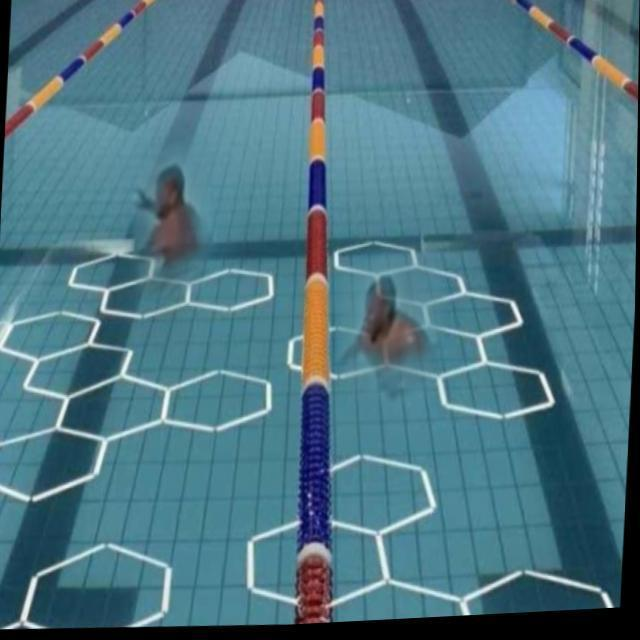swimming: (338, 278, 446, 381), (121, 167, 214, 274)
